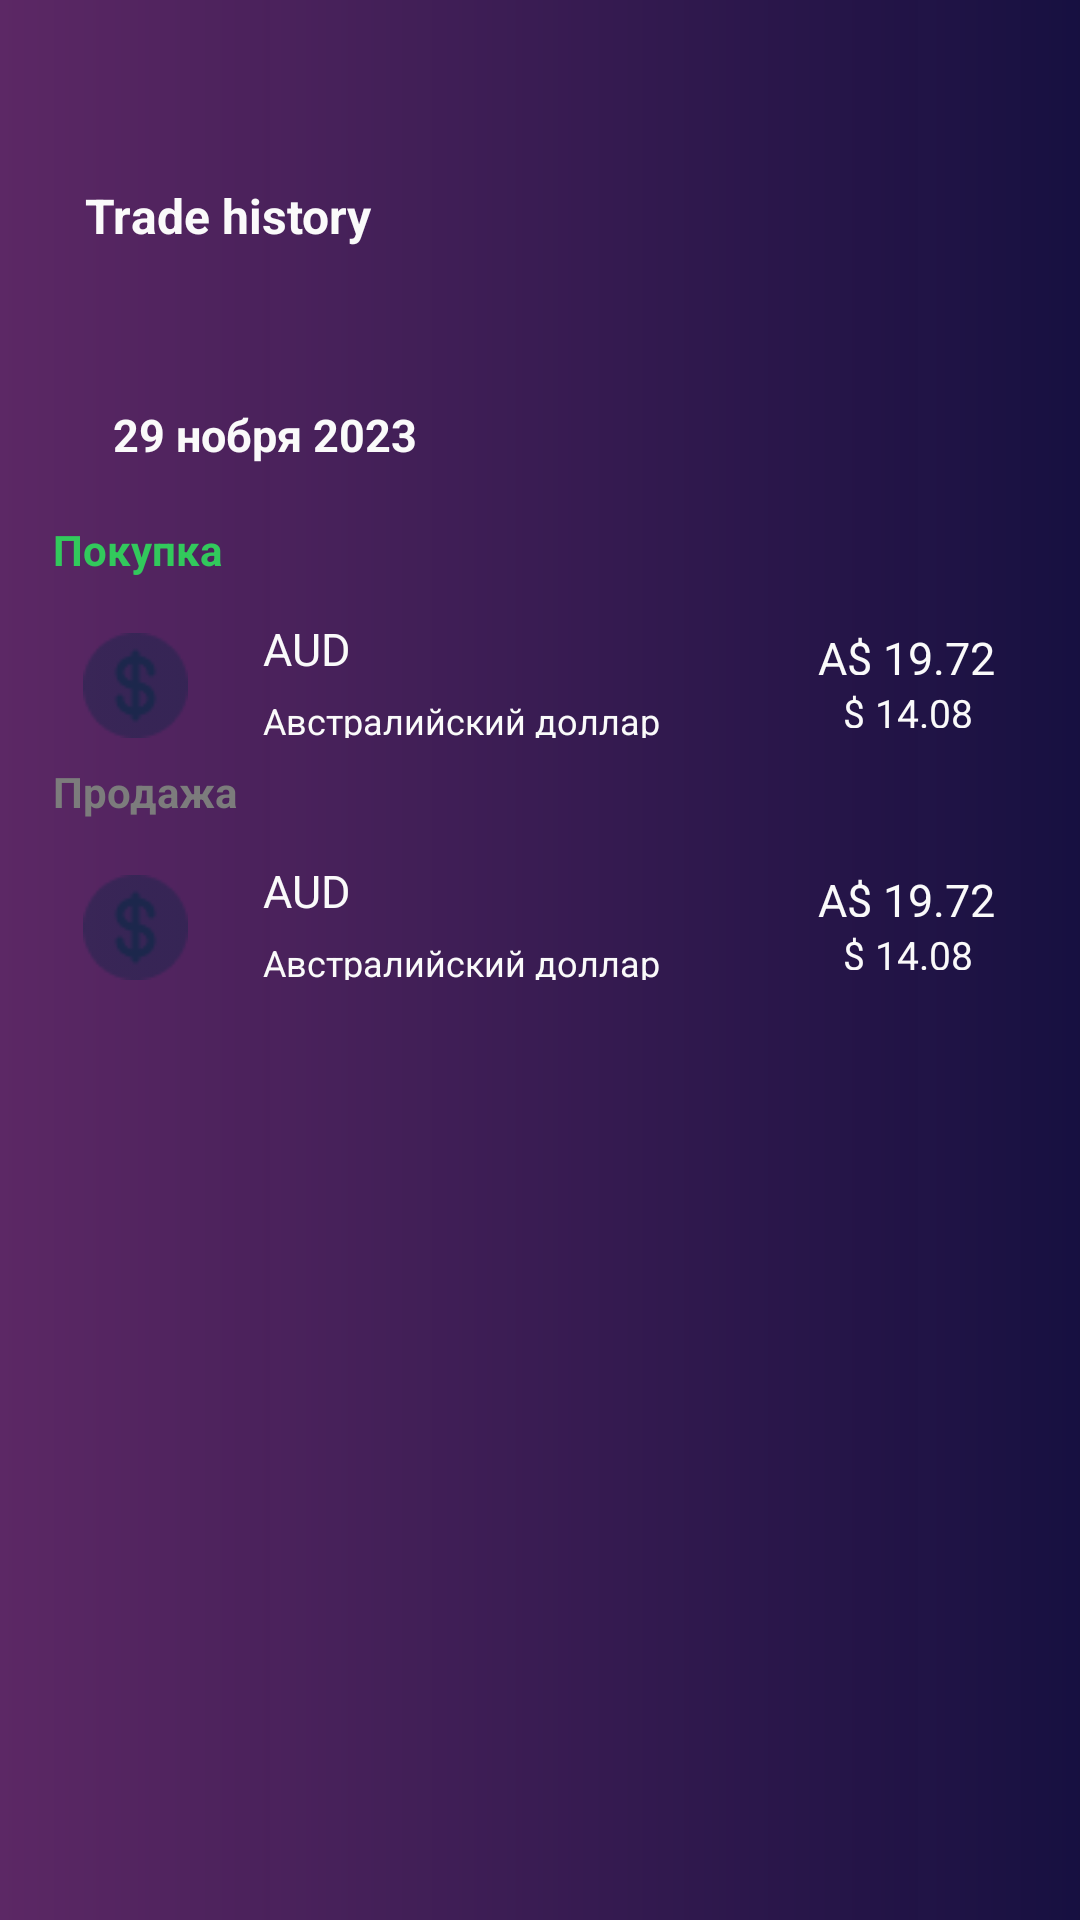

Named icons in this screenshot (1080 x 1920) and their centers, point (x, y):
dollar: point (135, 927)
